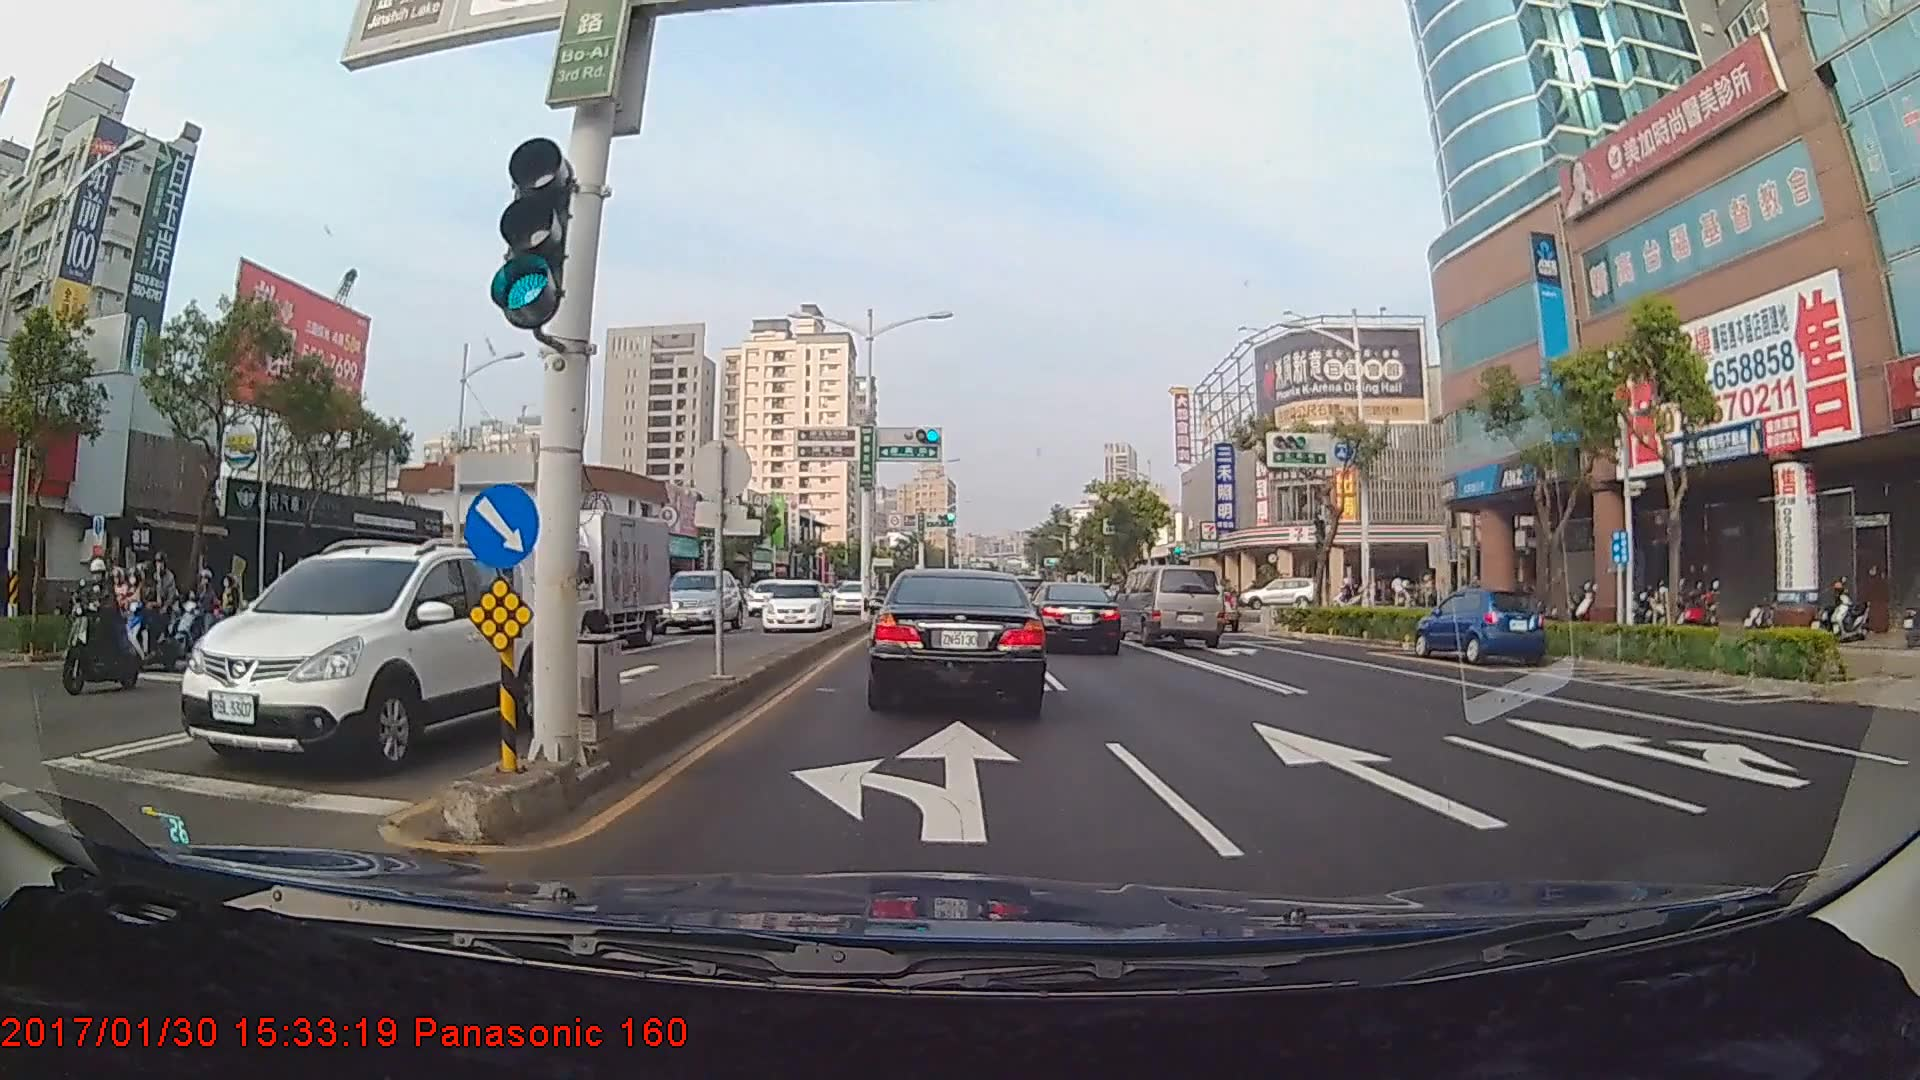rider: (51, 559, 150, 706), (108, 553, 194, 673)
vehicle: (193, 538, 516, 770), (872, 562, 1045, 713), (501, 510, 670, 659), (1410, 583, 1546, 666), (1117, 565, 1226, 649), (1029, 582, 1121, 655), (650, 567, 740, 635), (758, 574, 829, 633), (1237, 575, 1317, 609), (744, 580, 792, 617), (831, 576, 867, 617)
